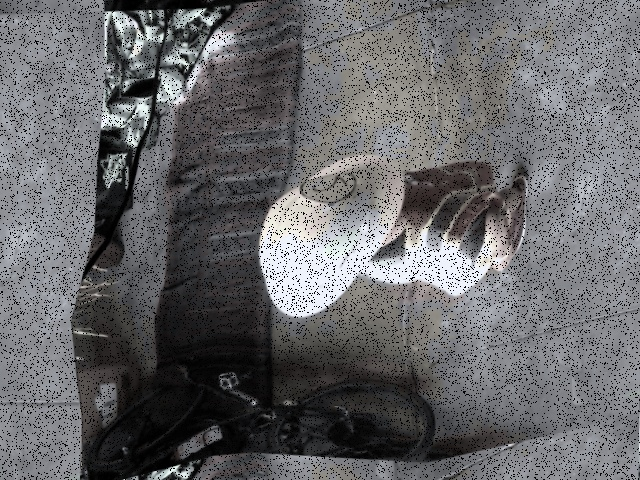two: (293, 170, 360, 205)
